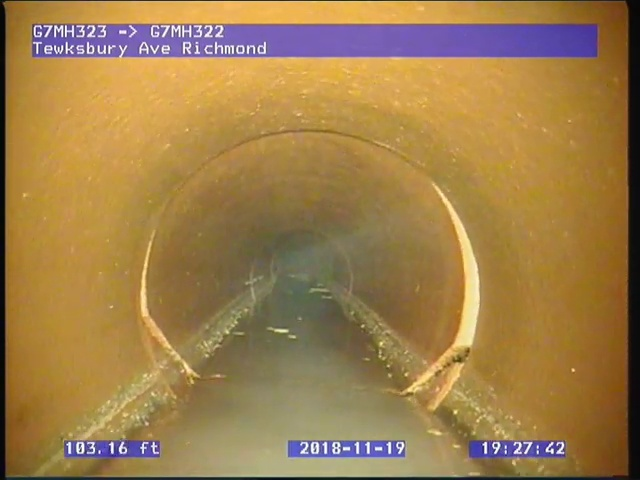crack: (392, 343, 472, 400), (177, 357, 229, 391)
